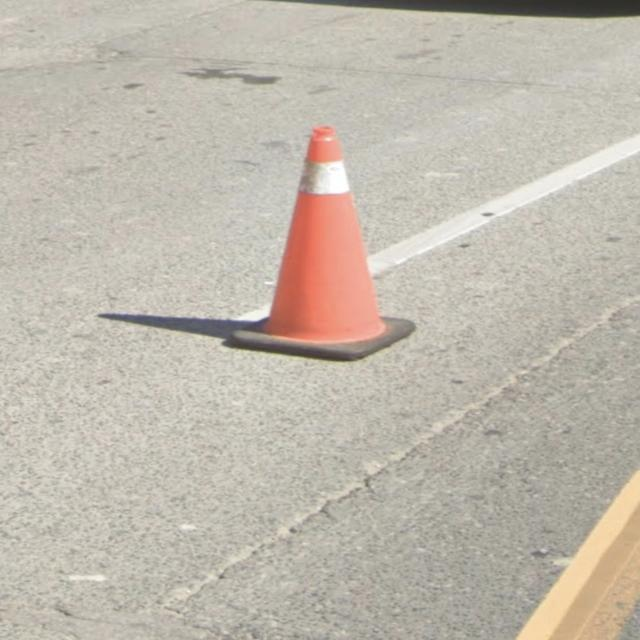Traffic Cone: (222, 123, 417, 359)
